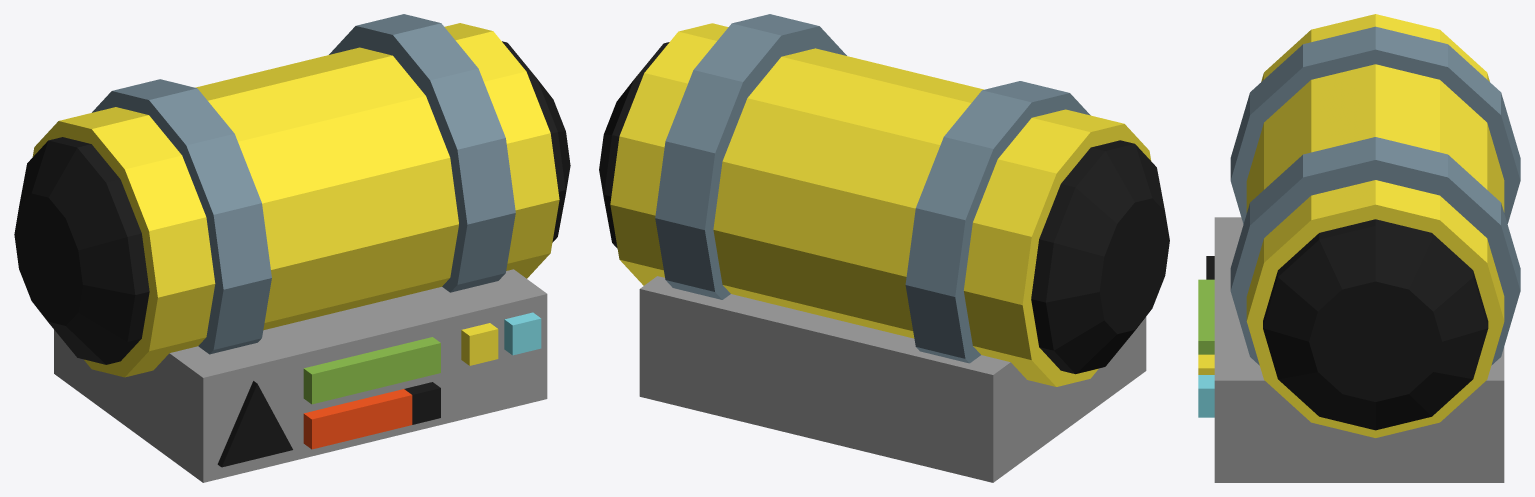
File: canister-by-zeoxo-fuTSDCcX7ma.glb
3 views of the same model, side by side, from view 1: azimuth 30°, elevation 25°; view 2: azimuth 150°, elevation 25°; view 3: azimuth 270°, elevation 25° (orthographic). The views are drawn at different scales.
Visible parts, largest first — view 1: group2131003550; view 2: group2131003550; view 3: group2131003550.
Part boxes in pixels (box(x1,y1,x2,y2)): group2131003550: box(14, 14, 570, 482); group2131003550: box(599, 14, 1169, 482); group2131003550: box(1198, 14, 1520, 482).
Size of the model in its own units: 0.34 by 0.2138 by 0.2.
